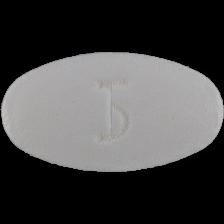31722-700: (0, 0, 224, 224)
